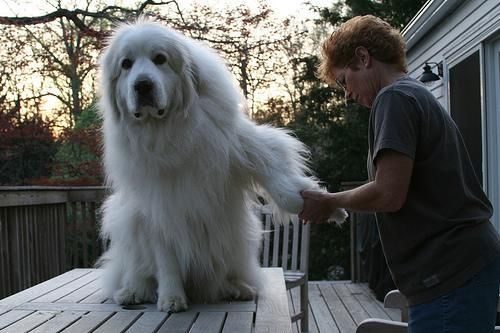Great_Pyrenees: (98, 22, 346, 312)
